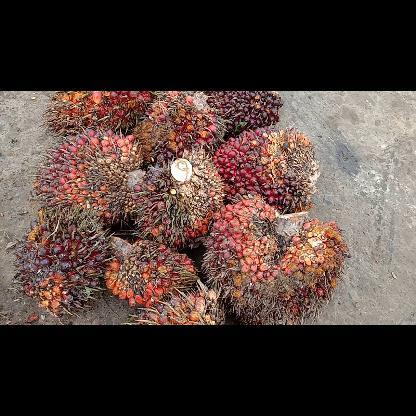TBS masak: (204, 196, 348, 324), (14, 213, 106, 316), (130, 150, 224, 248), (38, 132, 140, 222), (213, 128, 318, 214), (104, 233, 196, 304), (134, 91, 224, 159), (45, 90, 155, 132), (130, 288, 226, 324), (200, 93, 283, 131)
